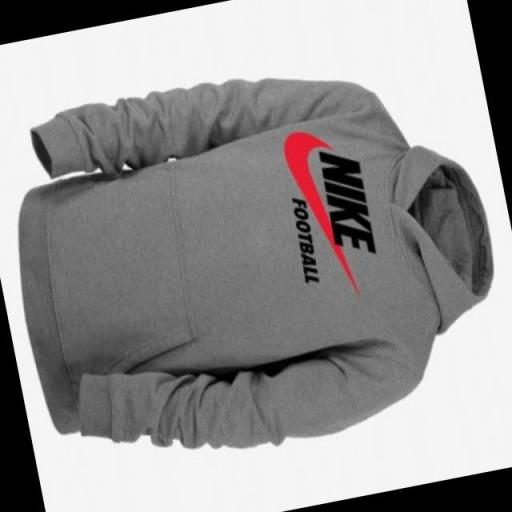Nike: (276, 128, 344, 282), (315, 145, 378, 262)
